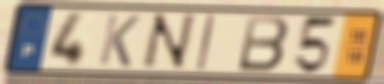4: (46, 9, 90, 69)
5: (293, 14, 338, 76)
B: (235, 13, 292, 74)
I: (194, 12, 218, 73)
K: (96, 12, 143, 69)
N: (137, 12, 199, 71)
